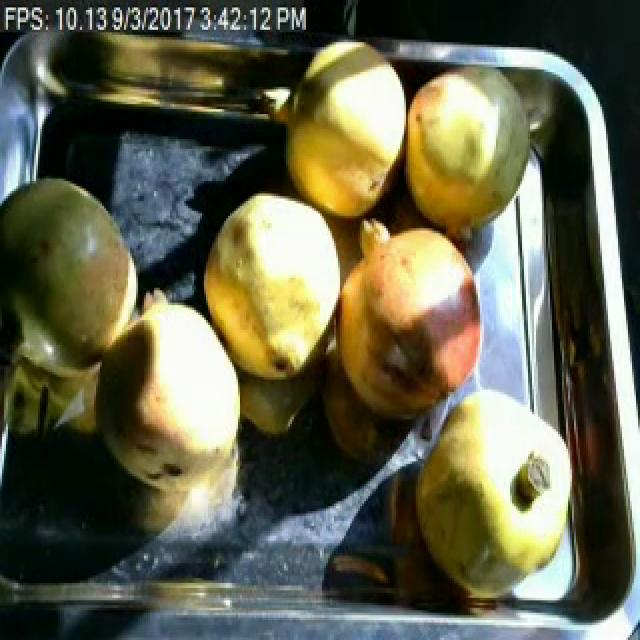fruit: (80, 260, 270, 516), (318, 206, 498, 444), (404, 377, 580, 603), (188, 181, 354, 402), (398, 60, 550, 253), (270, 35, 410, 233)
